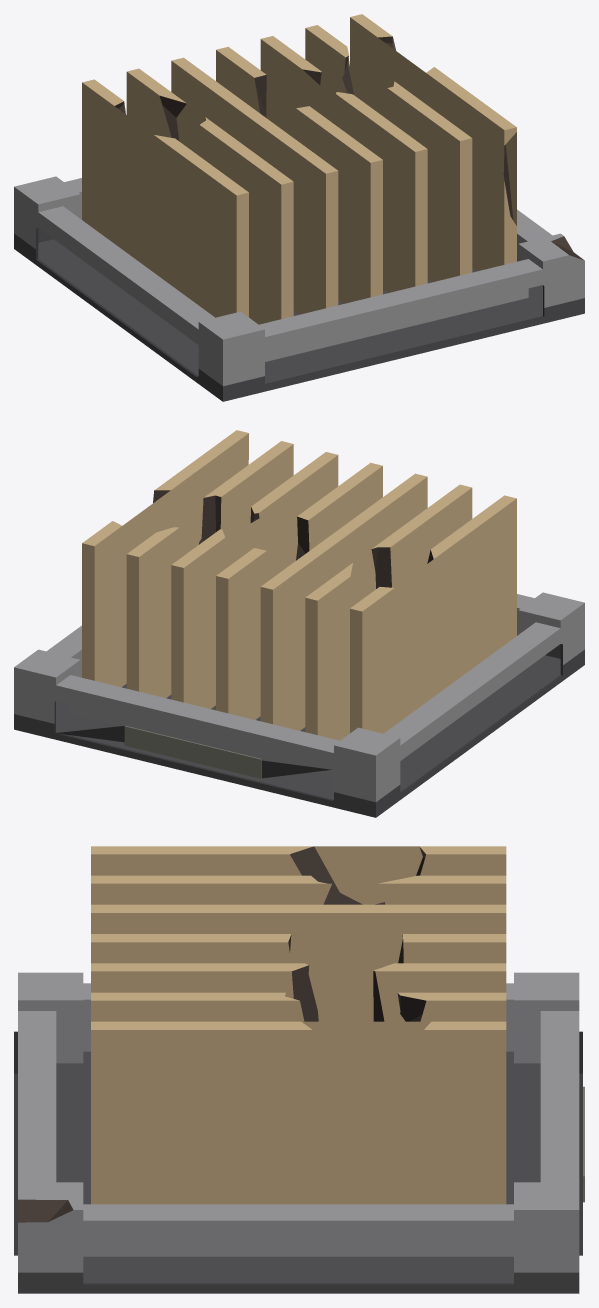
File: vge_d_largeheatsink.obj
3 renders of one model, top to bottom at view 1: azimuth 30°, elevation 25°; view 2: azimuth 150°, elevation 25°; view 3: azimuth 270°, elevation 25°, orthographic. The views are drawn at different scales.
Parts seen in each view (by area): view 1: vge_d_largeheatsink; view 2: vge_d_largeheatsink; view 3: vge_d_largeheatsink.
Part boxes in pixels (x1,y1,x2,y2): vge_d_largeheatsink: [14, 14, 584, 401]; vge_d_largeheatsink: [14, 430, 584, 817]; vge_d_largeheatsink: [14, 846, 584, 1293].
Bounding box in the file's own units: 2.96 × 1.36 × 2.97.
